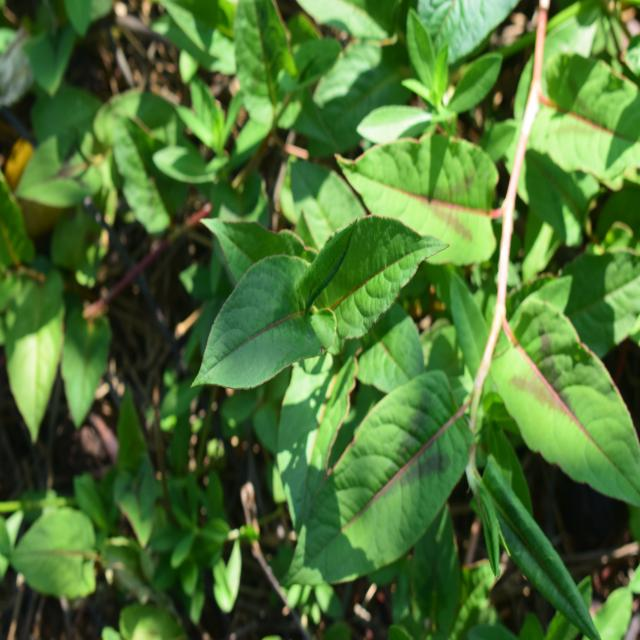Chinese_knotweed: (298, 242, 620, 601), (188, 172, 434, 410)
